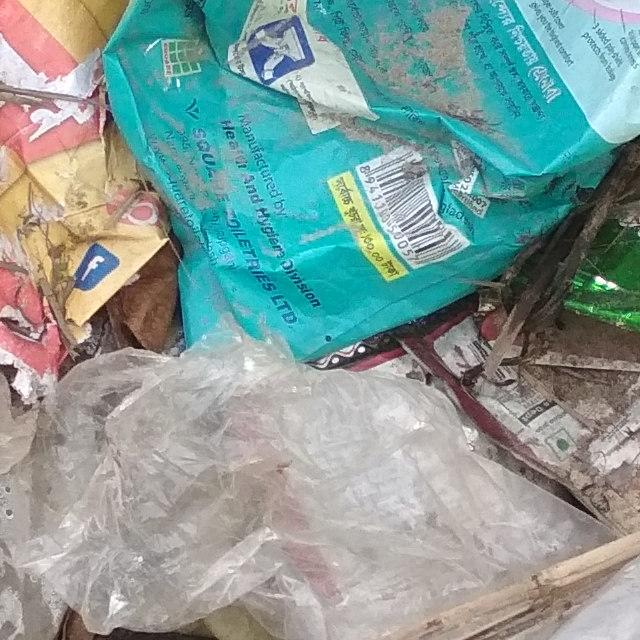plastic: (113, 0, 640, 393), (288, 171, 640, 640)
